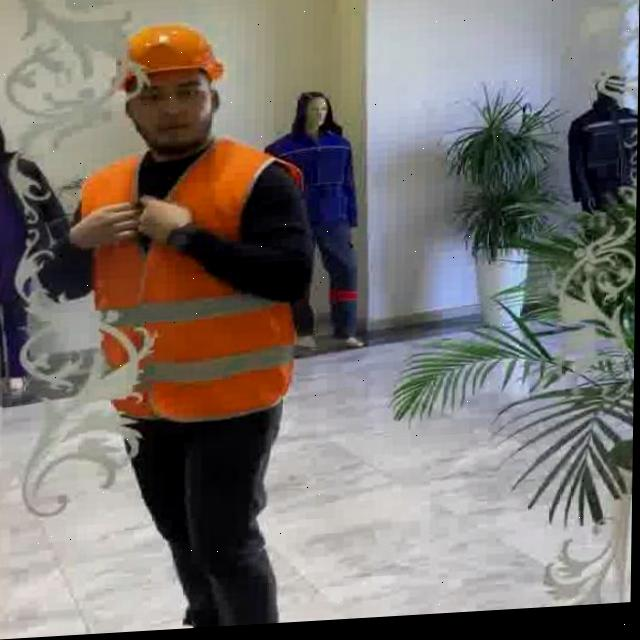Helmet: (121, 21, 226, 93)
No-Glove: (137, 194, 195, 249), (78, 202, 129, 251)
Safety-Vest: (77, 135, 308, 430)
